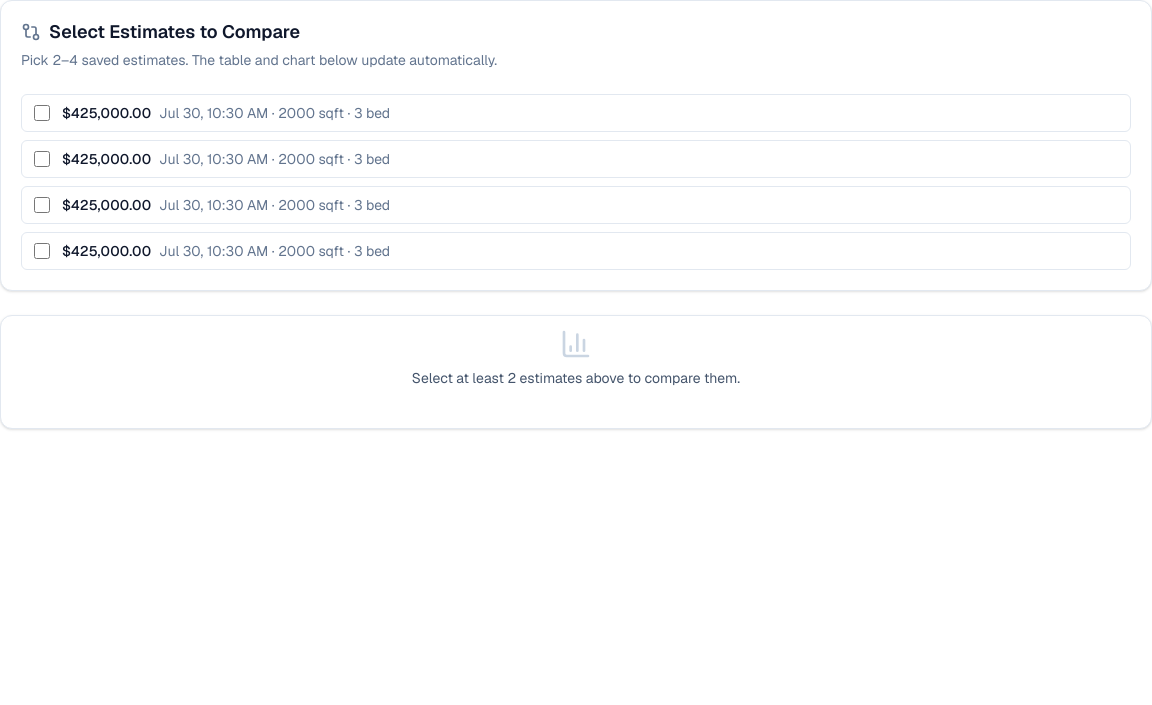
CompareClient › renders one column per selected entry in the comparison table
Click the 1st checkbox labelled "$425,000.00Jul 30, 10:30 AM · 2000 sqft · 3 bed": (42,112) [34,104,50,120]
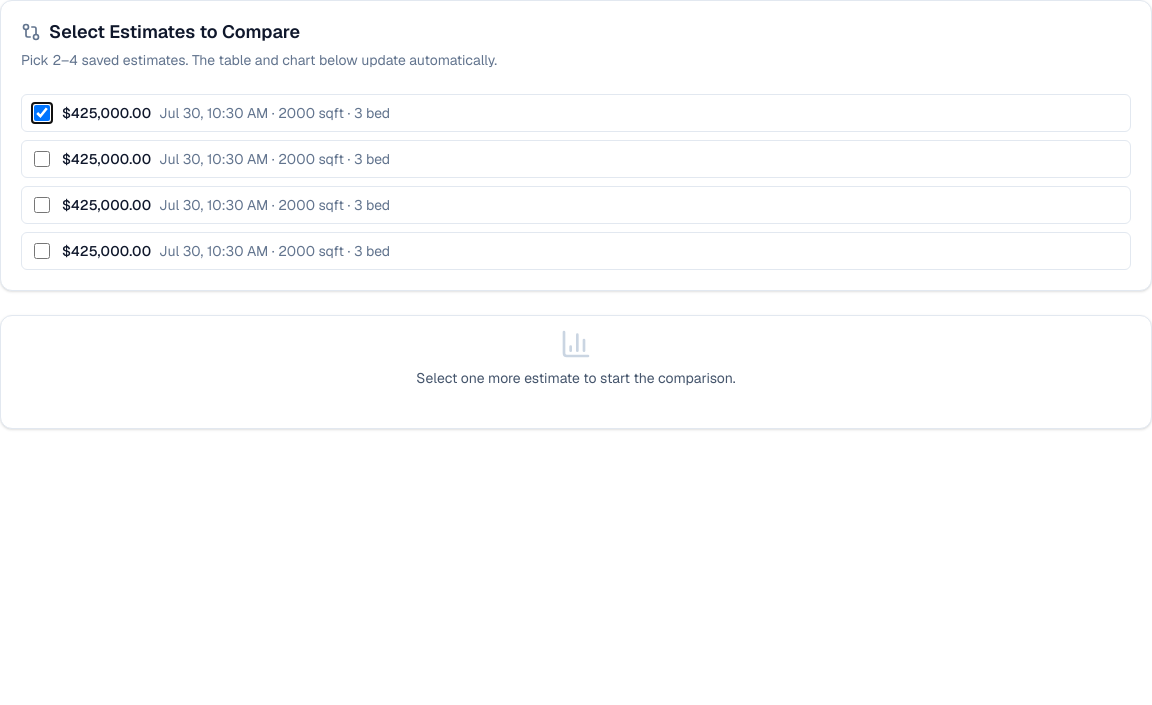
Click the 2nd checkbox labelled "$425,000.00Jul 30, 10:30 AM · 2000 sqft · 3 bed": (42,158) [34,150,50,166]
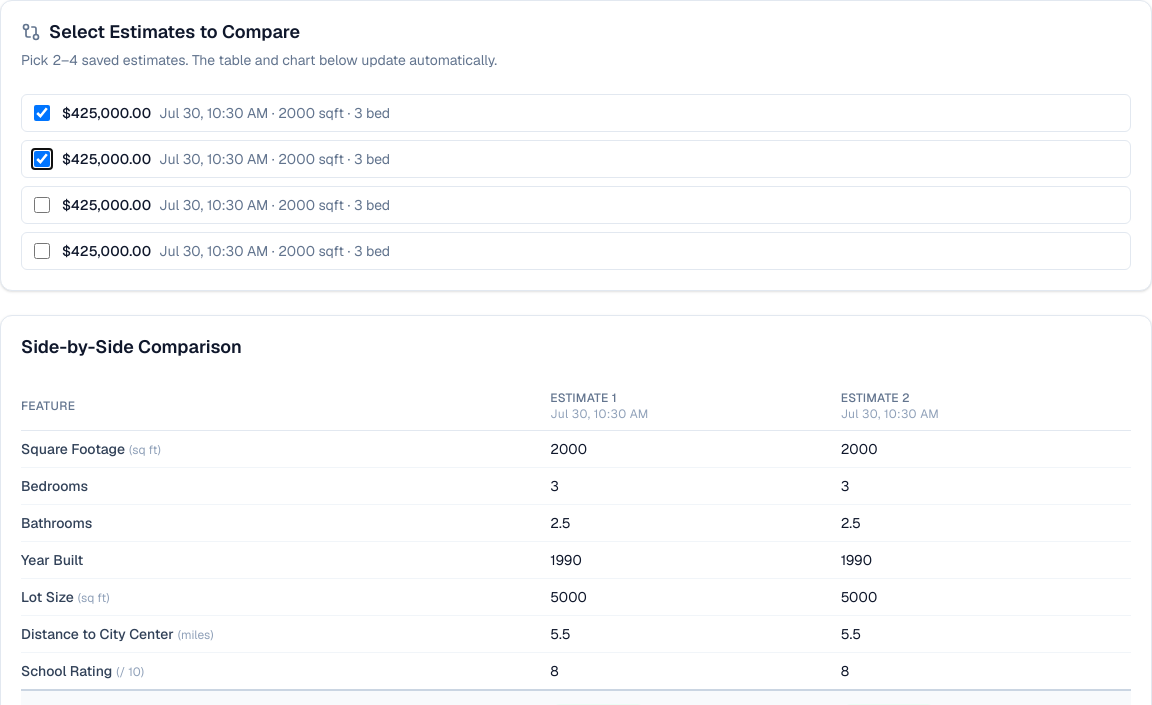
Click the 3rd checkbox labelled "$425,000.00Jul 30, 10:30 AM · 2000 sqft · 3 bed": (42,204) [34,196,50,212]
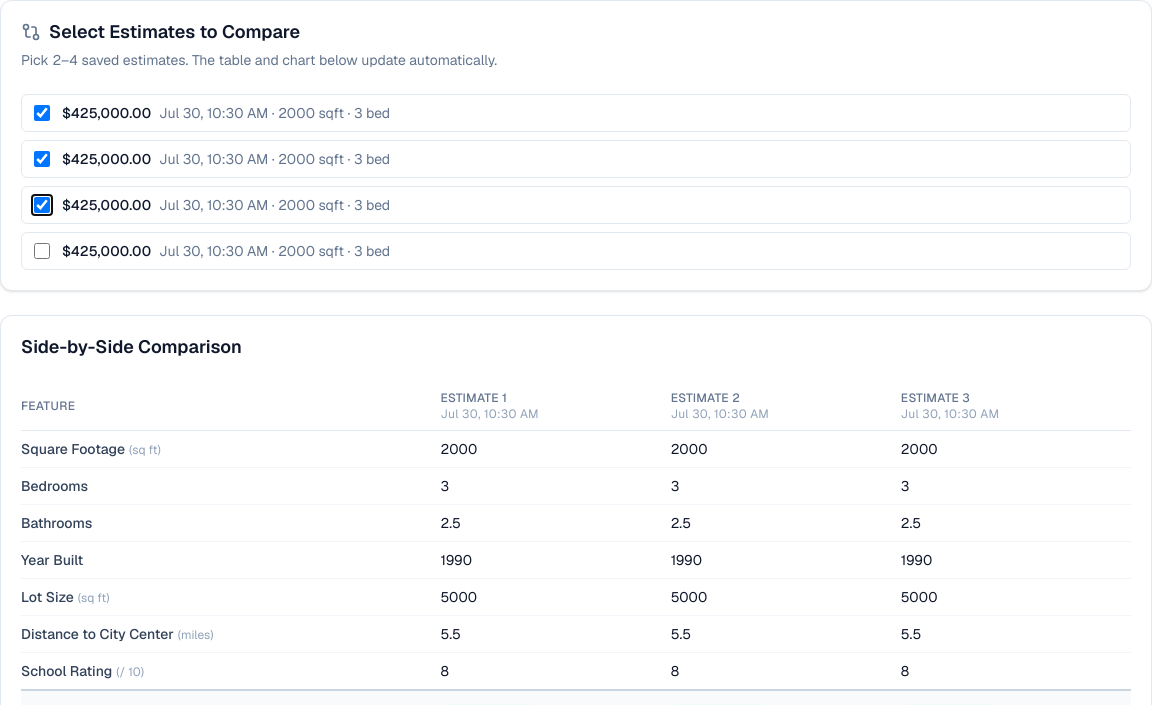
Click the 4th checkbox labelled "$425,000.00Jul 30, 10:30 AM · 2000 sqft · 3 bed": (42,250) [34,242,50,258]
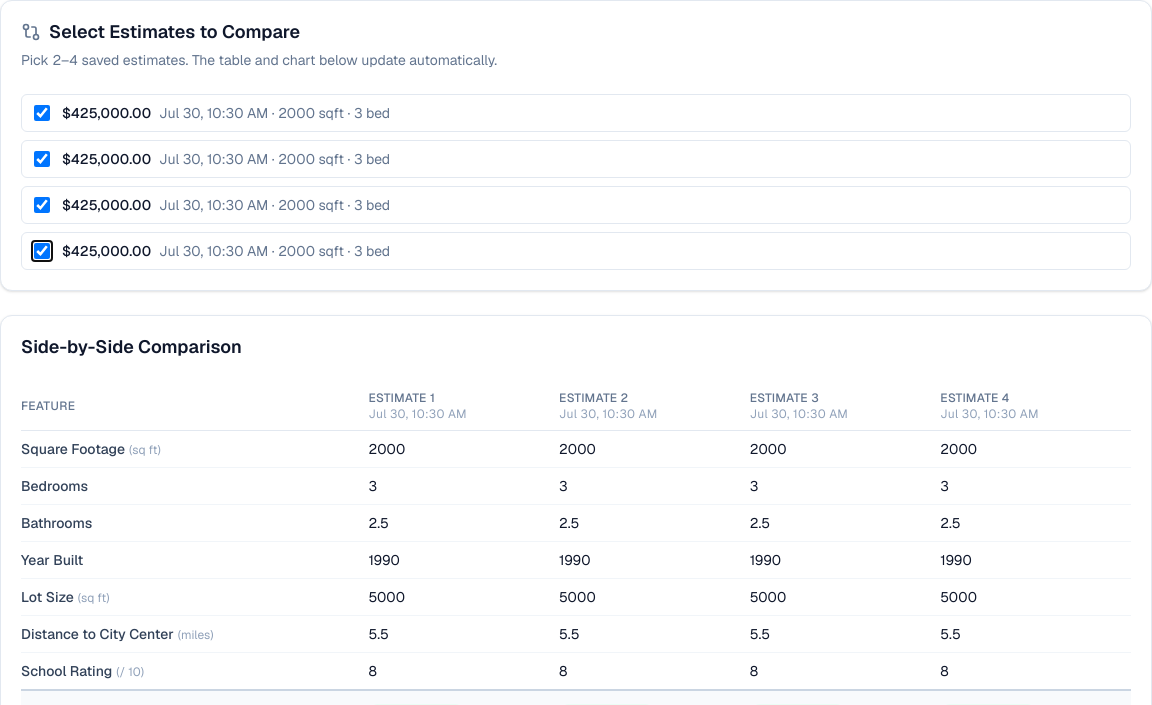
expect the column heading "Estimate 1Jul 30, 10:30 AM" is shown: met, box [368,382,559,430]
expect the column heading "Estimate 4Jul 30, 10:30 AM" is shown: met, box [940,382,1131,430]
